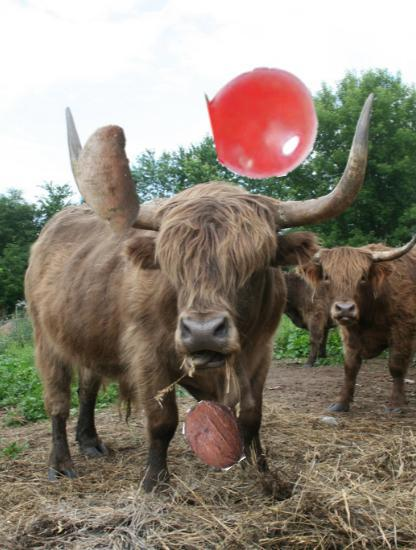Cocos: (179, 399, 251, 471)
Potato: (50, 125, 164, 239)
Redcurrant: (208, 67, 320, 179)
